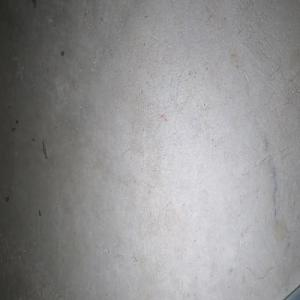Pen: (284, 286, 300, 300)
